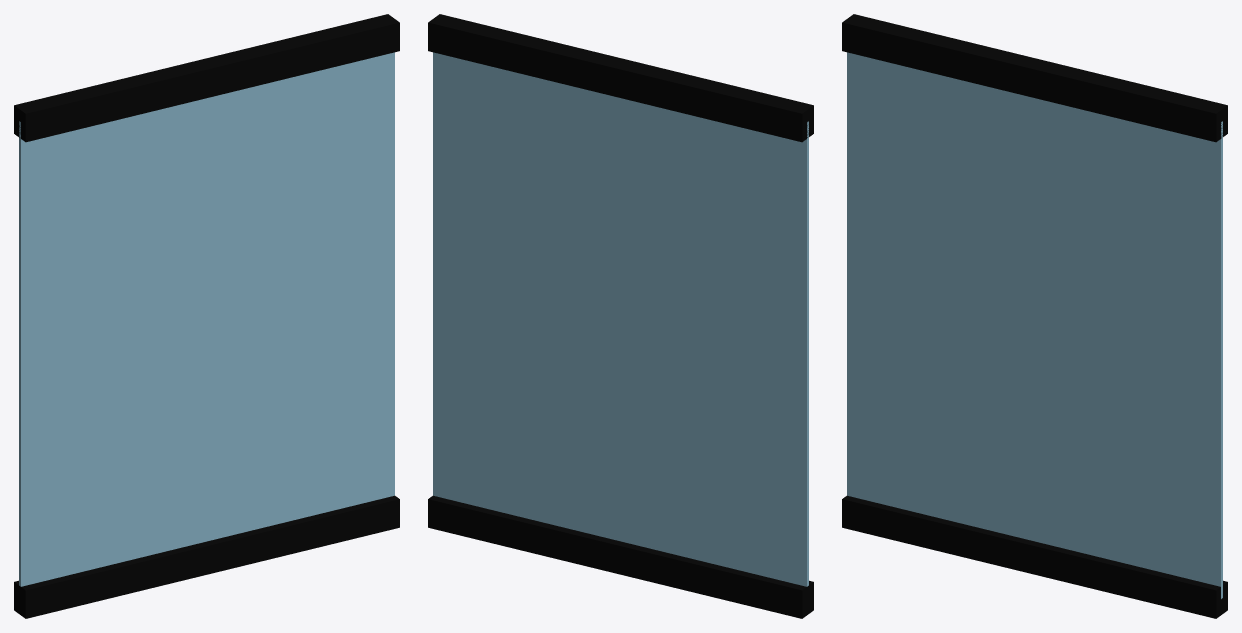
Rendered from Mirror-Bathroom_01.fbx.
3 renders of one model, left to right at view 1: azimuth 30°, elevation 25°; view 2: azimuth 150°, elevation 25°; view 3: azimuth 330°, elevation 25°, orthographic.
Parts seen in each view (by area): view 1: Mirror_01; view 2: Mirror_01; view 3: Mirror_01.
Part boxes in pixels (box(x1,y1,x2,y2)): Mirror_01: box(14, 14, 399, 618); Mirror_01: box(428, 14, 813, 618); Mirror_01: box(842, 14, 1227, 618).
Bounding box in the file's own units: 0.8301 × 1.07 × 0.0448.
